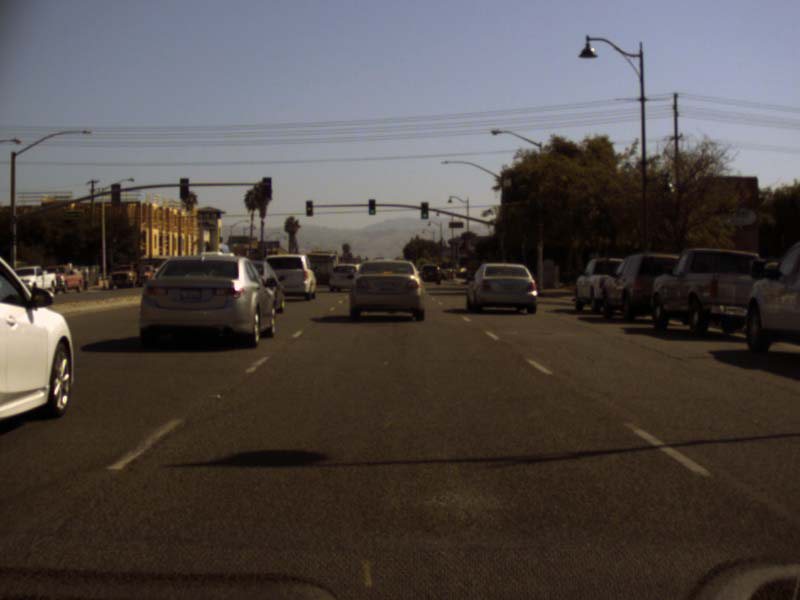Green: (420, 201, 428, 219), (368, 198, 375, 214), (502, 235, 508, 248)
Yellow: (305, 200, 312, 216)
